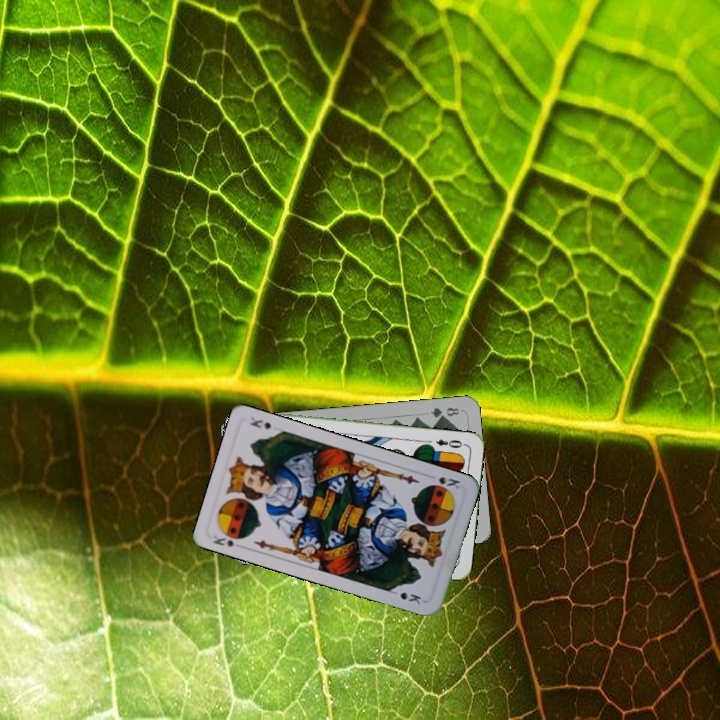EO: (432, 435, 468, 451)
G8: (426, 403, 462, 421)
SK: (426, 473, 463, 493), (209, 531, 237, 550)
